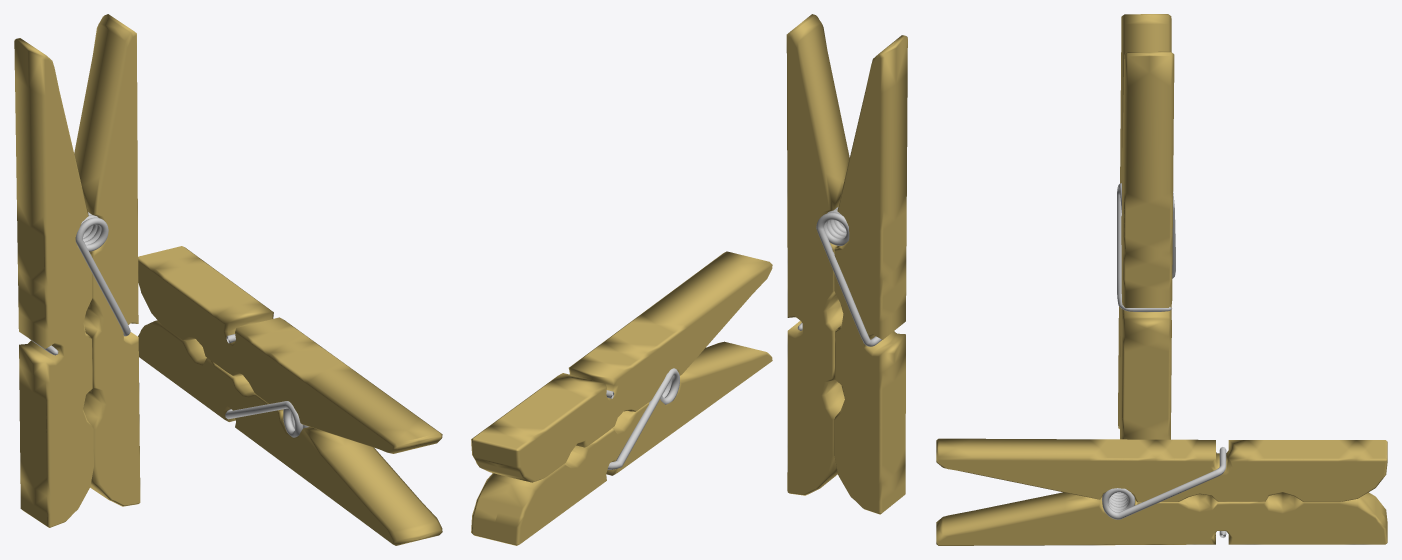
File: ClothesPin_Fbx.fbx
The picture shows the model from 3 angles, left to right: view 1: azimuth 30°, elevation 25°; view 2: azimuth 150°, elevation 25°; view 3: azimuth 270°, elevation 25°; orthographic projection. The views are drawn at different scales.
Visible parts, largest first — view 1: Pin12, Pin11, Pin21, Pin22, ressort, ressort2; view 2: Pin12, Pin11, Pin21, Pin22, ressort, ressort2; view 3: Pin21, Pin11, Pin22, Pin12, ressort2, ressort.
Boxes of the visible parts, x1=… form: Pin12: x1=14, y1=38, x2=93, y2=527; Pin11: x1=74, y1=14, x2=140, y2=506; Pin21: x1=138, y1=246, x2=442, y2=453; Pin22: x1=138, y1=320, x2=442, y2=545; ressort: x1=29, y1=212, x2=130, y2=355; ressort2: x1=225, y1=334, x2=309, y2=437; Pin12: x1=834, y1=35, x2=907, y2=514; Pin11: x1=786, y1=14, x2=849, y2=495; Pin21: x1=471, y1=251, x2=772, y2=482; Pin22: x1=471, y1=341, x2=772, y2=545; ressort: x1=797, y1=207, x2=881, y2=346; ressort2: x1=606, y1=368, x2=679, y2=469; Pin21: x1=936, y1=438, x2=1387, y2=502; Pin11: x1=1119, y1=51, x2=1174, y2=439; Pin22: x1=936, y1=492, x2=1387, y2=545; Pin12: x1=1118, y1=14, x2=1171, y2=428; ressort2: x1=1102, y1=447, x2=1226, y2=537; ressort: x1=1117, y1=183, x2=1175, y2=311.
Bounding box in the file's own units: 169 × 254 × 253.
